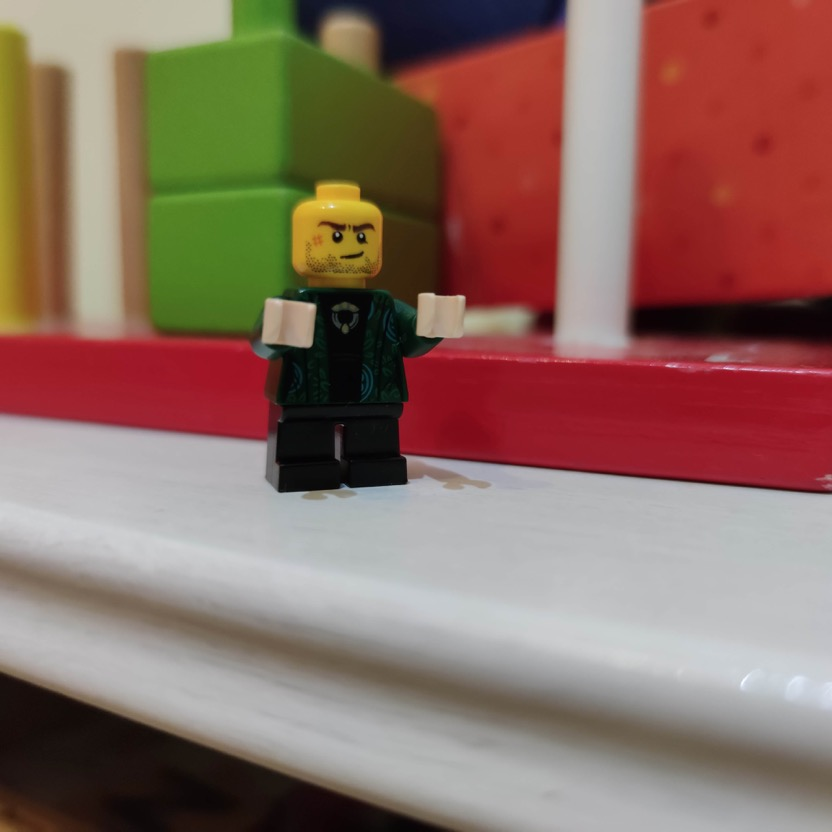lego: (252, 182, 468, 494)
